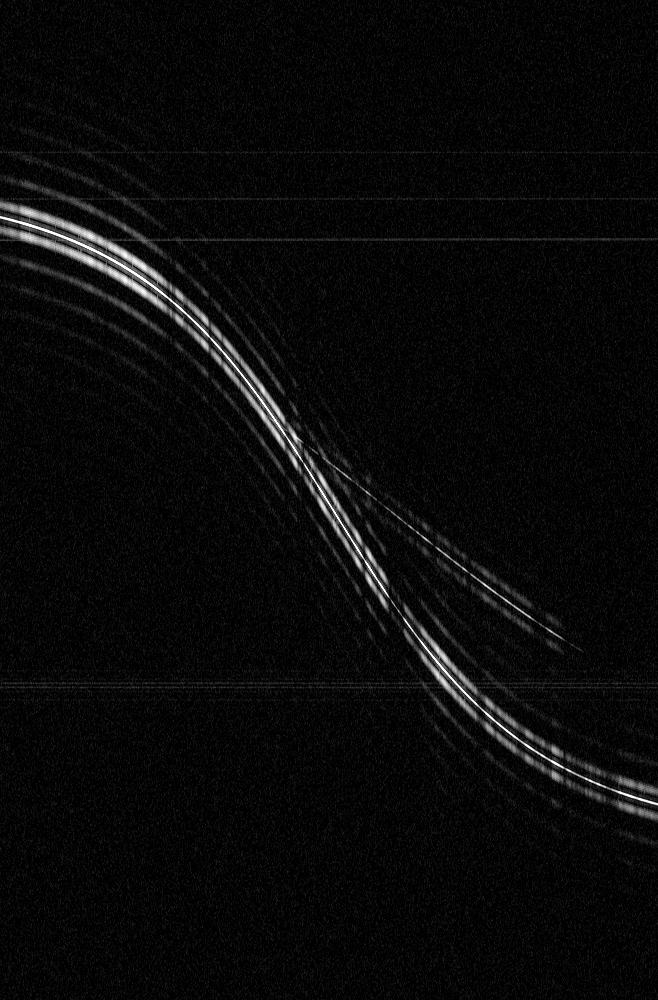signal: (0, 0, 657, 999)
